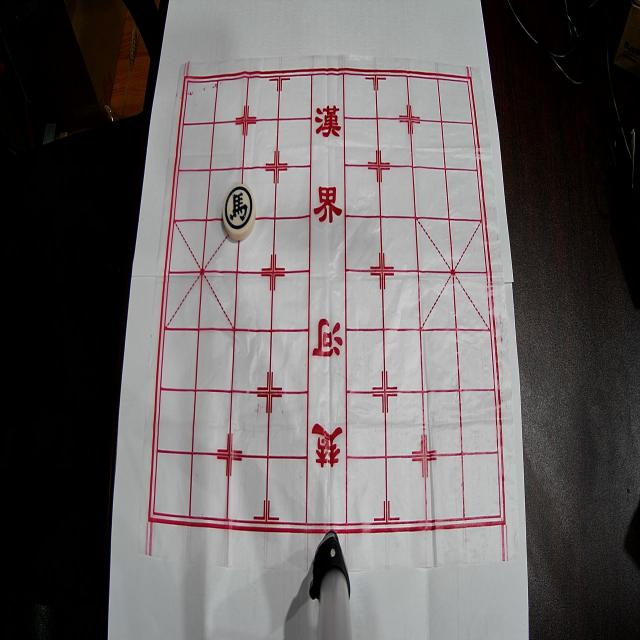black-horse: (222, 183, 255, 240)
